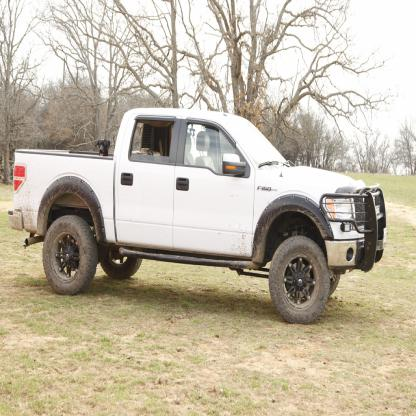Truck: (8, 107, 388, 324)
